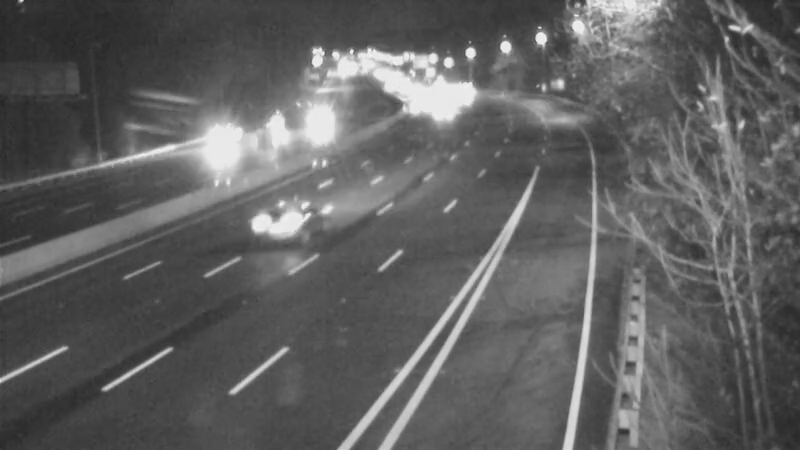vehicle: (241, 172, 321, 252), (385, 81, 435, 131), (417, 84, 467, 134), (186, 124, 236, 174), (240, 111, 290, 161), (306, 94, 356, 144)
